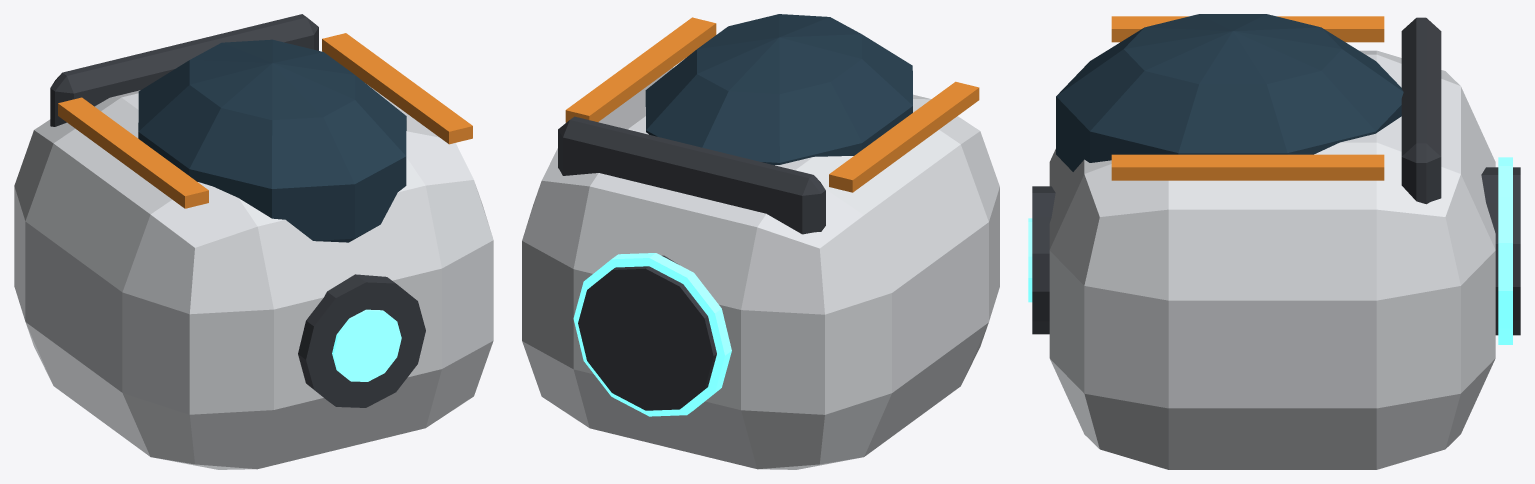
Rendered from command_station.glb.
3 renders of one model, left to right at view 1: azimuth 30°, elevation 25°; view 2: azimuth 150°, elevation 25°; view 3: azimuth 270°, elevation 25°, orthographic. The views are drawn at different scales.
Visible parts, largest first — view 1: command_station; view 2: command_station; view 3: command_station.
Boxes of the visible parts, x1,y1,x2,y2 form: command_station: [14, 14, 493, 469]; command_station: [522, 14, 999, 469]; command_station: [1028, 14, 1520, 469].
Bounding box in the file's own units: 0.9 × 0.87 × 0.9925.
